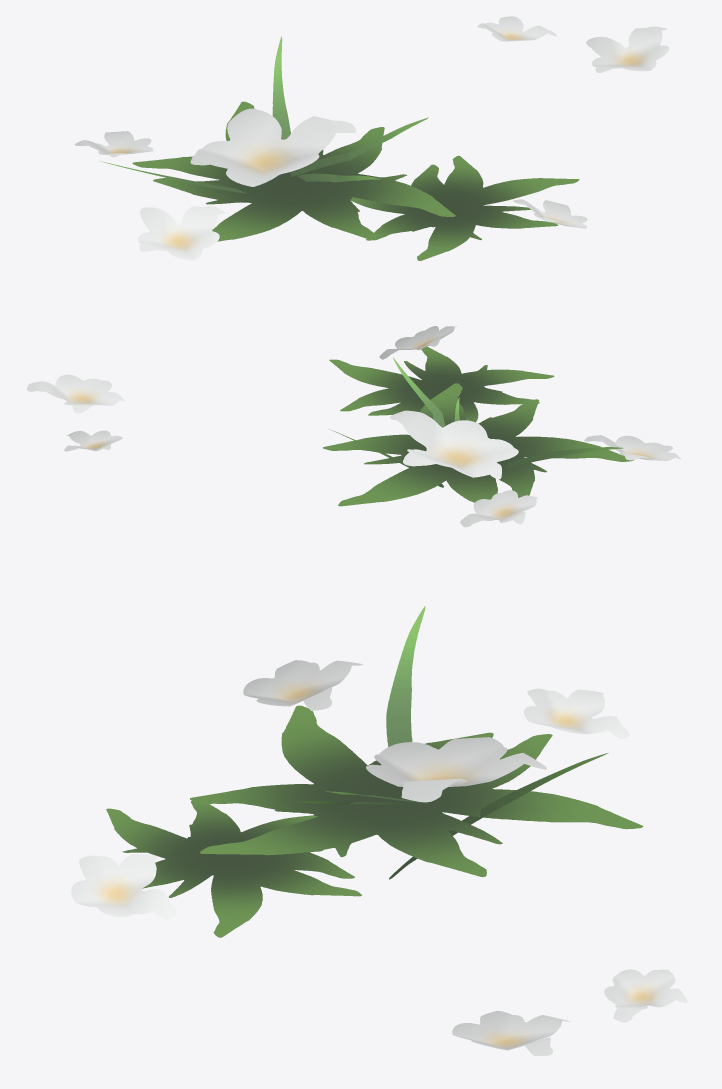
File: plant_05.glb
The picture shows the model from 3 angles, top to bottom: view 1: azimuth 30°, elevation 25°; view 2: azimuth 150°, elevation 25°; view 3: azimuth 270°, elevation 25°; orthographic projection. The views are drawn at different scales.
Visible parts, largest first — view 1: plant_05; view 2: plant_05; view 3: plant_05.
Boxes of the visible parts, x1,y1,x2,y2 form: plant_05: (75,16,669,260); plant_05: (27,326,680,527); plant_05: (71,606,687,1056).
Bounding box in the file's own units: 0.7884 × 0.1464 × 0.5364.
1 material, 1 textured.
